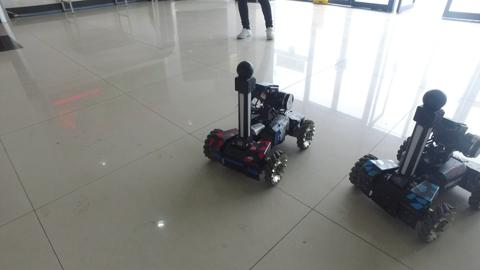chariot: (347, 88, 479, 247), (200, 61, 318, 192)
